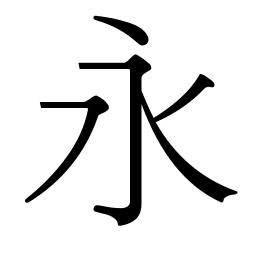D: (91, 12, 151, 48)
HSZ: (121, 52, 154, 86)
Hs: (75, 57, 106, 72)
Ne: (204, 178, 242, 206)
PNc: (143, 109, 166, 130)
PZe: (23, 184, 50, 206)
Ps: (188, 72, 217, 96)
SG: (91, 197, 147, 229)
Sm: (127, 135, 145, 163)
TPZ: (75, 92, 111, 137)
Ts: (37, 98, 60, 111)
